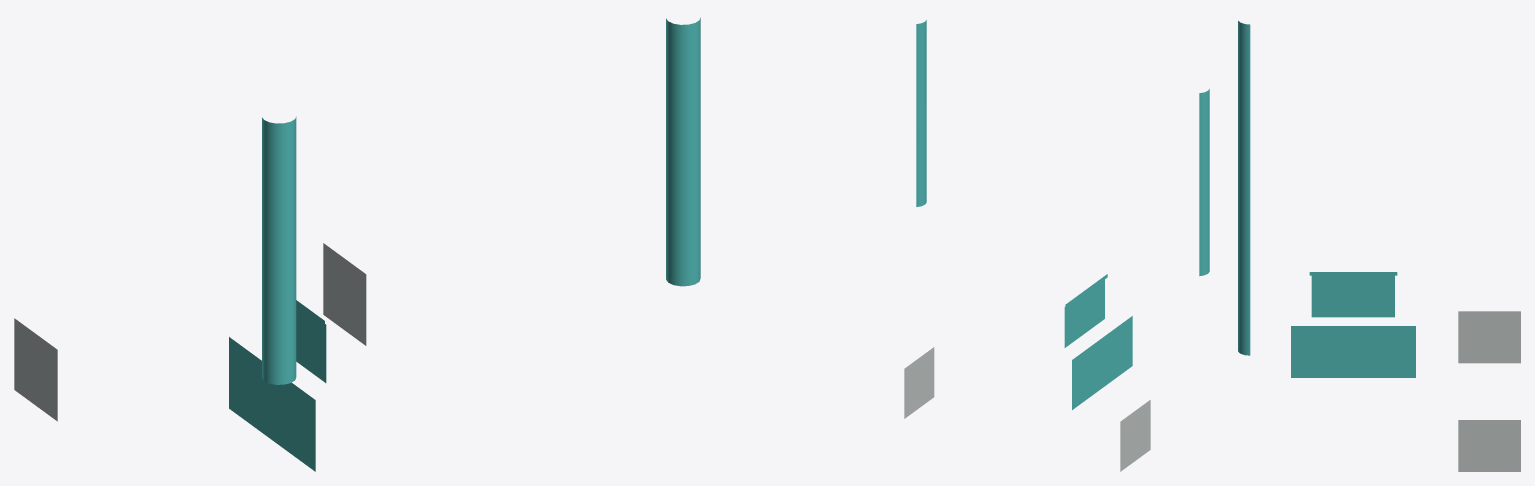
Rendered from LabWing.glb.
3 renders of one model, left to right at view 1: azimuth 30°, elevation 25°; view 2: azimuth 150°, elevation 25°; view 3: azimuth 270°, elevation 25°, orthographic. The views are drawn at different scales.
Size of the model in its own units: 4.47 by 3 by 2.72.
